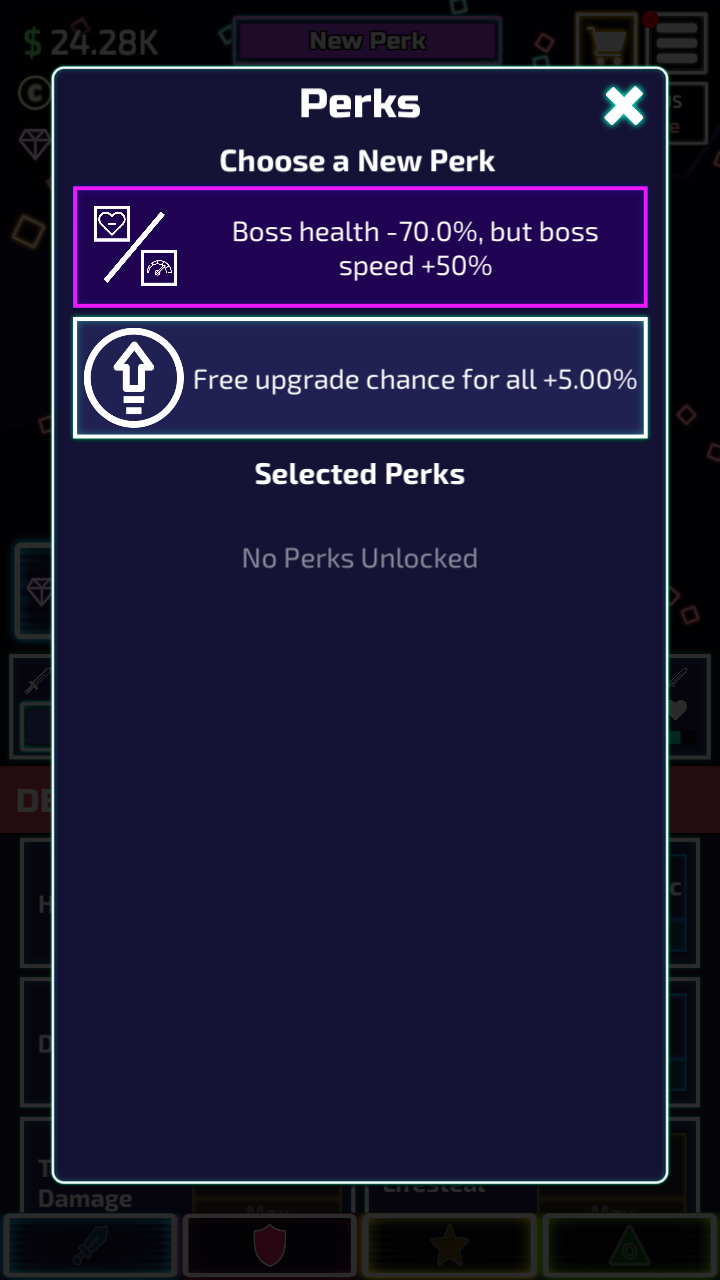B_Choose_Perks: (64, 137, 660, 447)
B_Gem_Ad: (7, 543, 48, 643)
B_Menu_Action_Required: (637, 11, 709, 66)
B_Menu_Closed: (571, 15, 705, 66)
B_New_Perk: (235, 18, 500, 61)
B_Perk_Button: (68, 182, 650, 304), (69, 319, 653, 434)
B_Perk_Label: (228, 211, 607, 288), (189, 358, 641, 401)
B_Perk_Window: (43, 62, 666, 1186)
B_Selected_Perks: (64, 450, 655, 600)
